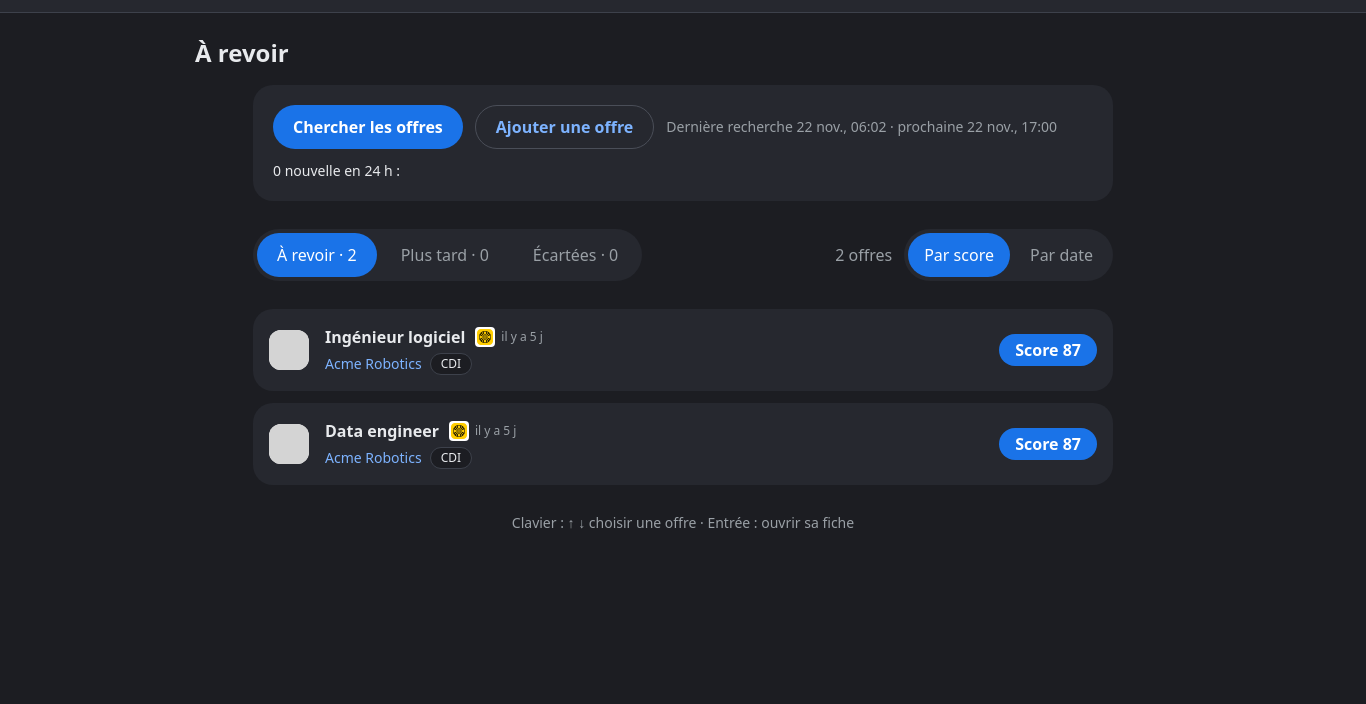
Test case: a card › says when the offer's full text was not read, only its alert
The image size is (1366, 704).
Click the button "Ingénieur logiciel il y a 5 j Acme Robotics CDI Score 87": (289, 350) [253,309,1113,391]
(page scrolled)
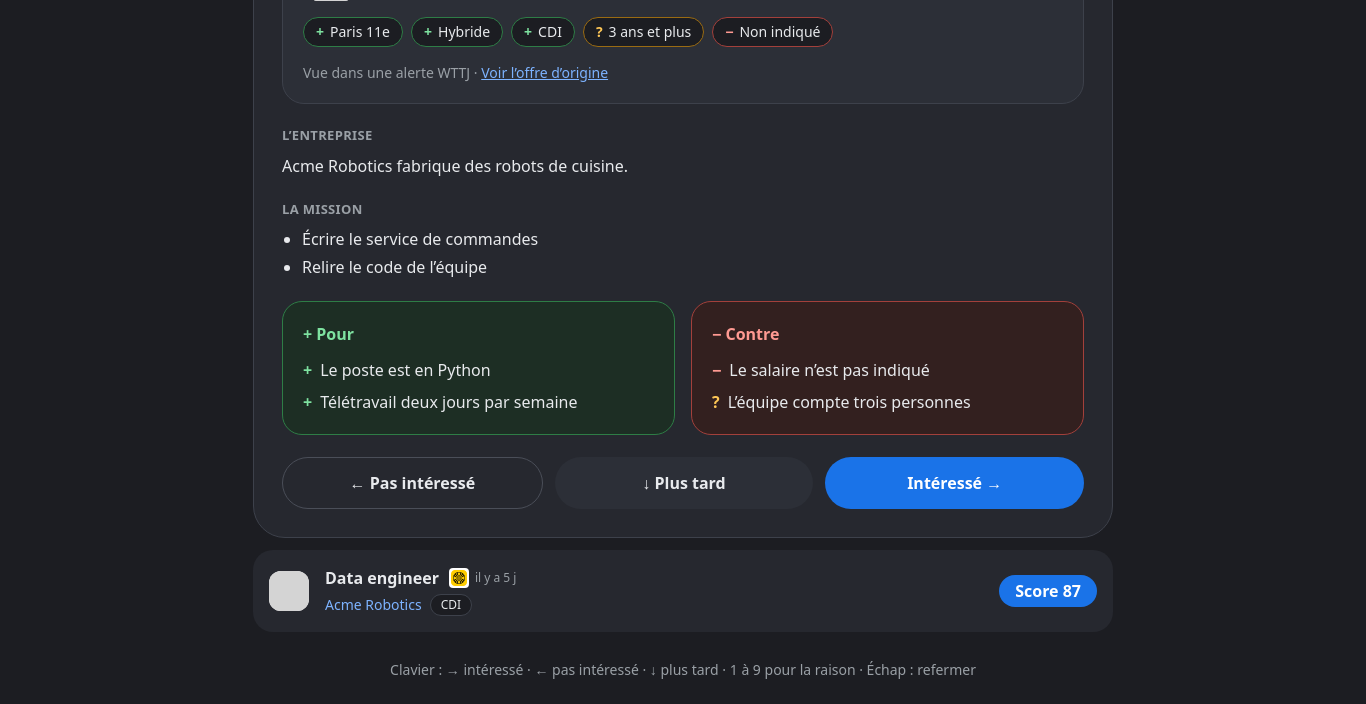
Check: the text "texte complet non lu" is not shown
Click the button "Data engineer il y a 5 j Acme Robotics CDI Score 87": (289, 591) [253,550,1113,632]
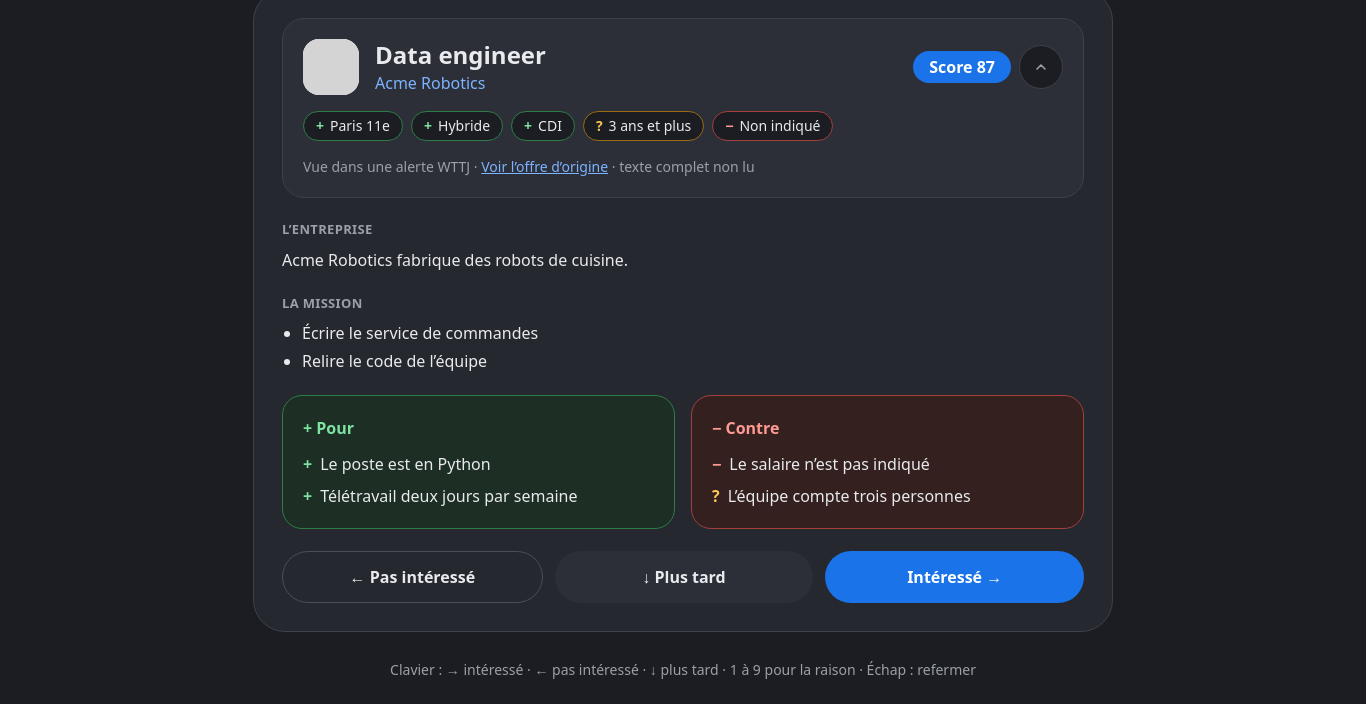
Check: the text "texte complet non lu" is shown once, box [619,157,754,176]
